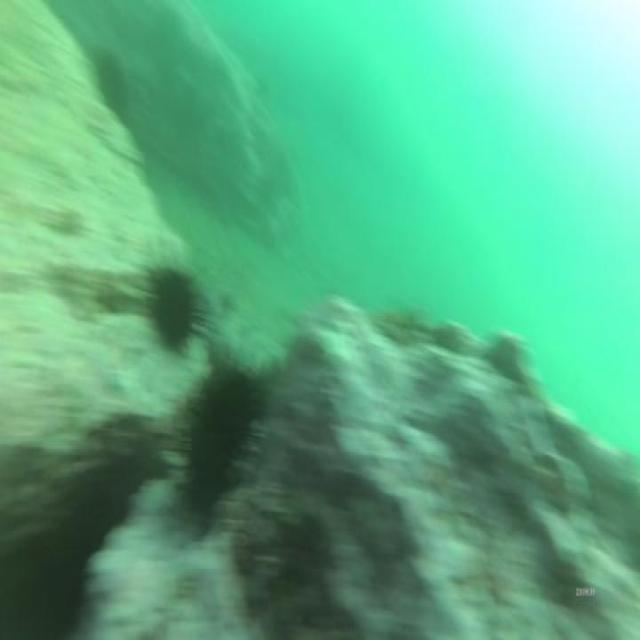echinus: (174, 359, 268, 529), (148, 260, 198, 358), (98, 41, 128, 128)
